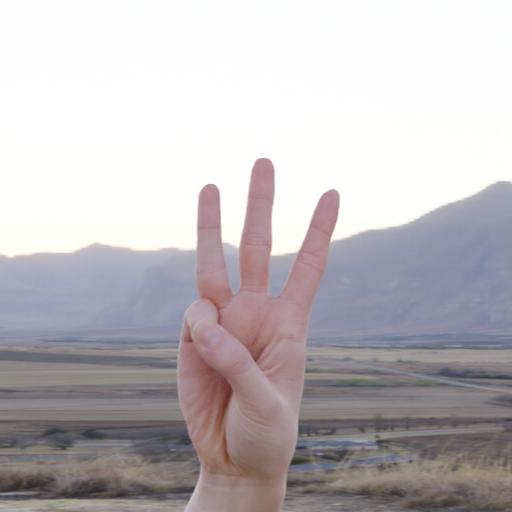W: (152, 132, 357, 486)
